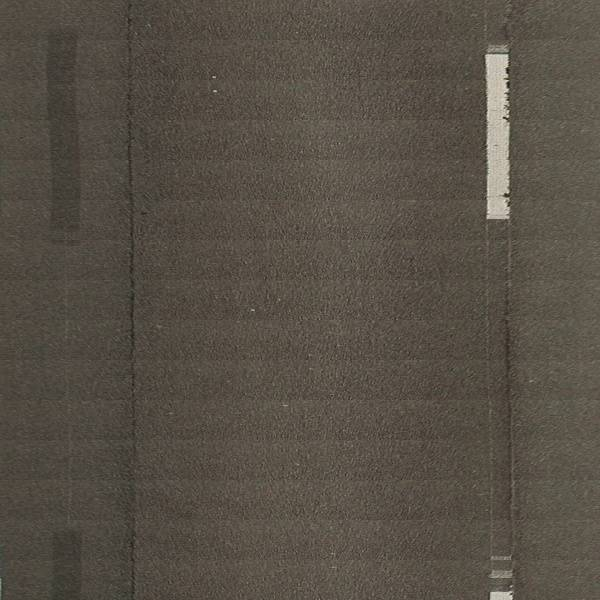road_damage: (126, 144, 140, 376)
